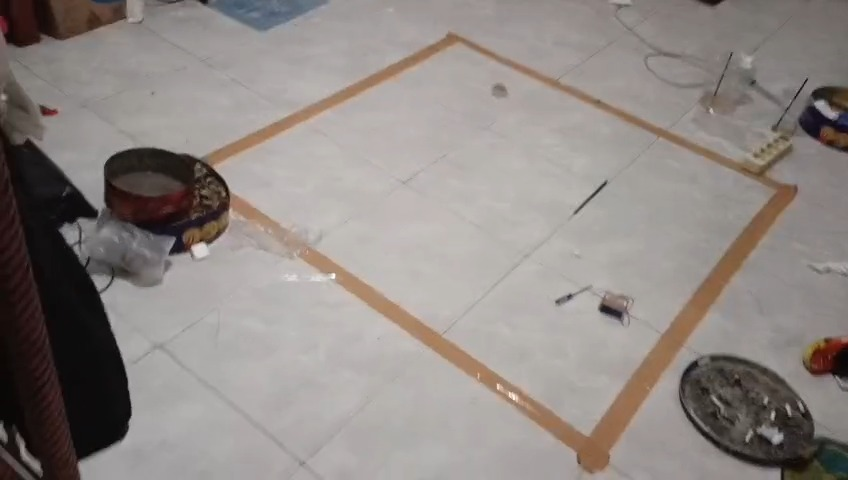floor marking: (207, 33, 796, 471), (231, 194, 294, 241)
